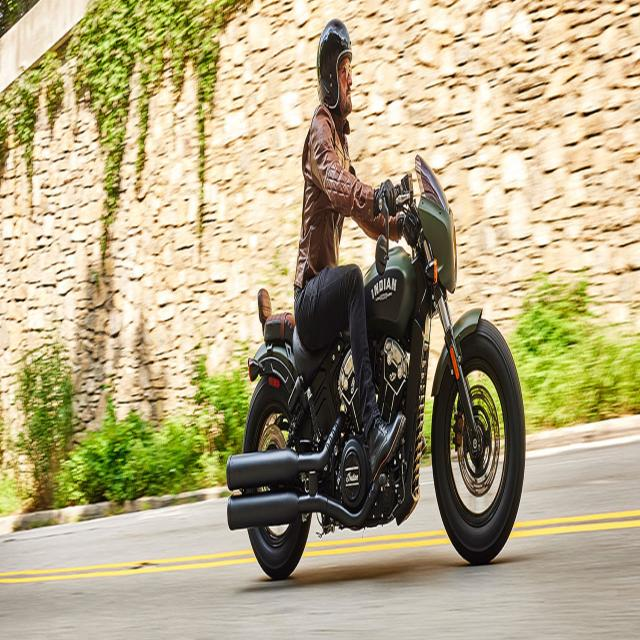motorcycle: (228, 20, 525, 580)
